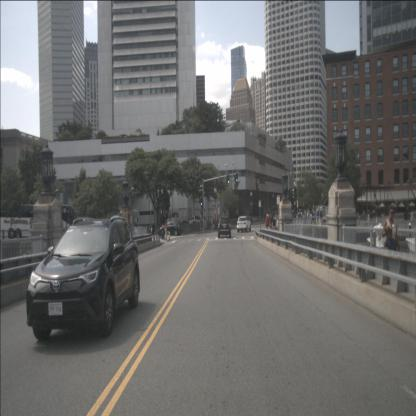human-pedestrian-adult: (382, 204, 401, 284), (265, 214, 270, 234), (272, 215, 276, 235), (269, 213, 273, 231), (164, 219, 167, 241), (210, 218, 214, 232), (152, 221, 155, 239), (204, 218, 207, 232), (212, 217, 215, 231), (200, 216, 202, 232)
vehicle-bus-rigid: (0, 202, 75, 242)
vehicle-car: (26, 218, 140, 340), (159, 221, 183, 236), (218, 216, 231, 238), (236, 216, 252, 232), (166, 211, 180, 226), (189, 214, 201, 226)
